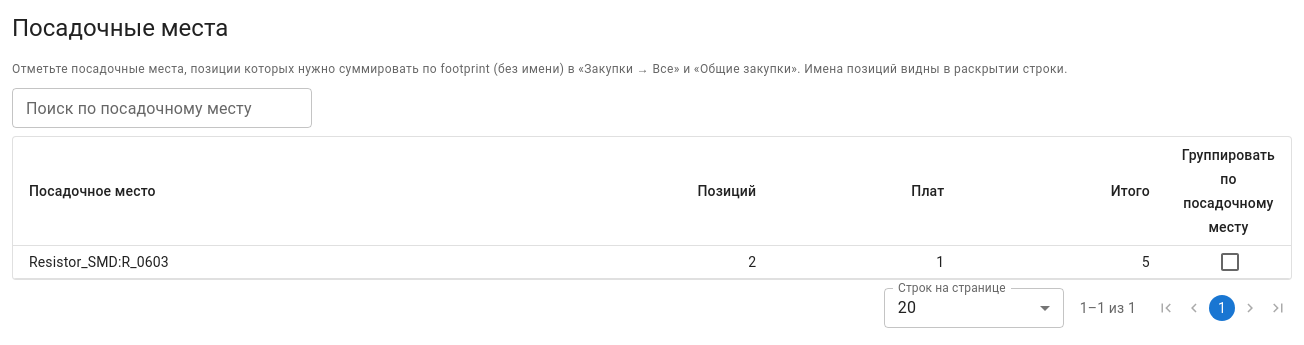
Test: FootprintsPage › clears the search field with the cross button
This screenshot has width=1304, height=345.
Type "R_0603" into the field labelled "Поиск по посадочному месту" at (162, 108), box x1=12 y1=88 x2=312 y2=128
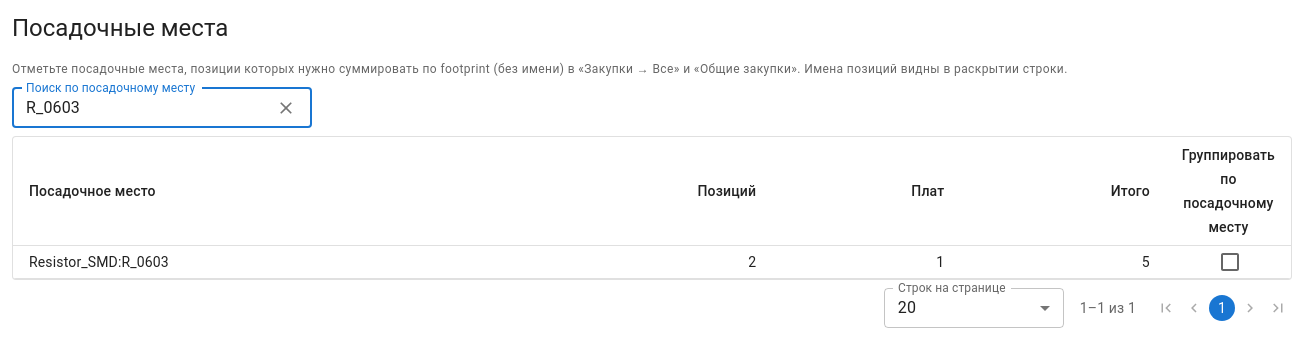
Click the button named "Очистить" at (286, 108), box x1=271 y1=93 x2=301 y2=123
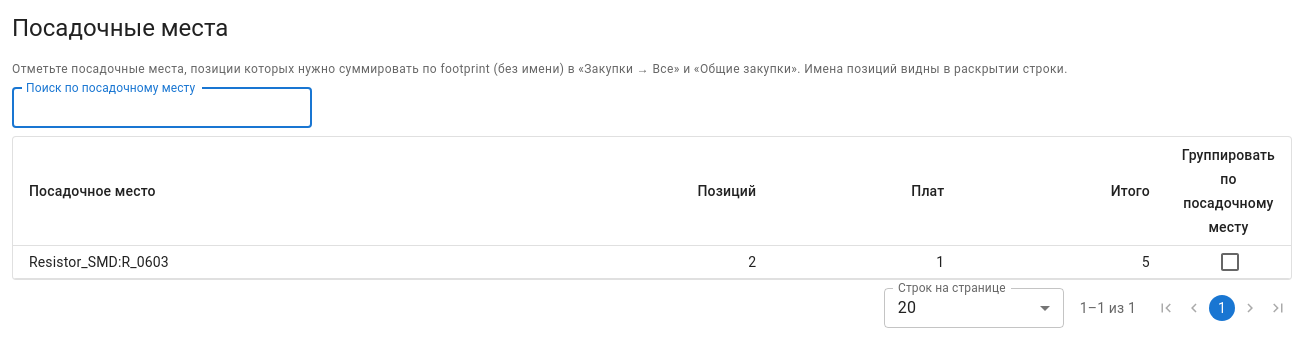
Now the field labelled "Поиск по посадочному месту" is empty, box x1=12 y1=88 x2=312 y2=128
